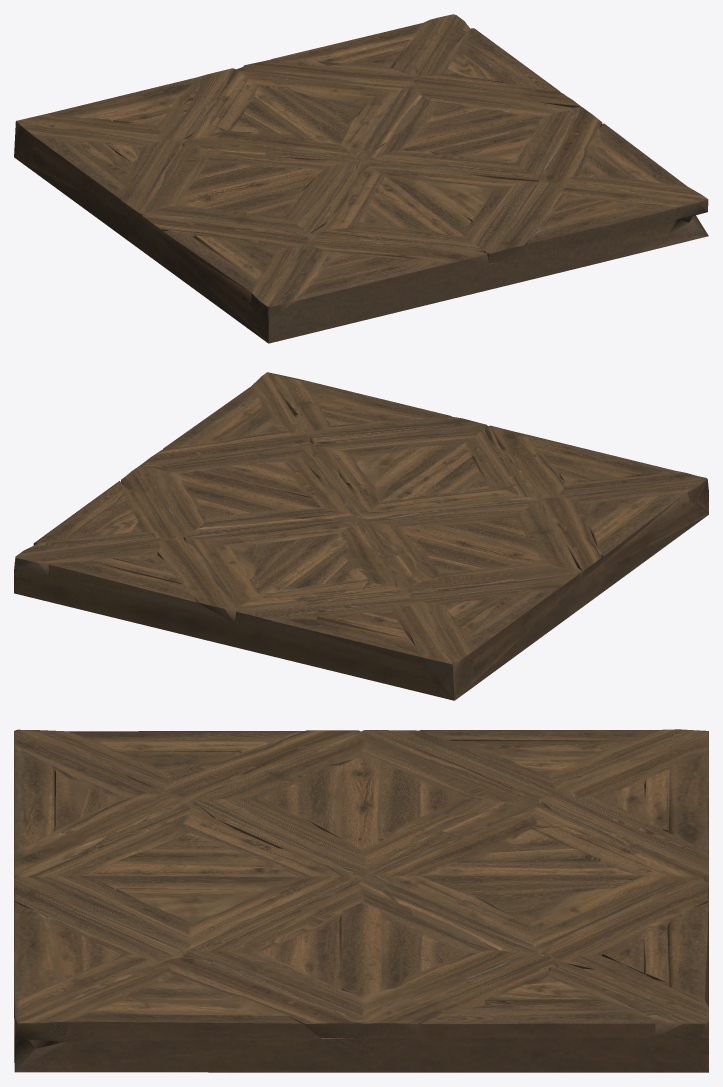
The model's file is blk_wooden_floor.glb.
The picture shows the model from 3 angles, top to bottom: view 1: azimuth 30°, elevation 25°; view 2: azimuth 150°, elevation 25°; view 3: azimuth 270°, elevation 25°; orthographic projection. The views are drawn at different scales.
Parts seen in each view (by area): view 1: Mesh_0; view 2: Mesh_0; view 3: Mesh_0.
Boxes of the visible parts, box(x1,y1,x2,y2) form: Mesh_0: box(14, 14, 708, 343); Mesh_0: box(14, 372, 708, 700); Mesh_0: box(14, 729, 708, 1072).
Size of the model in its own units: 1.9 by 0.1543 by 1.9.
1 material, 1 textured.
